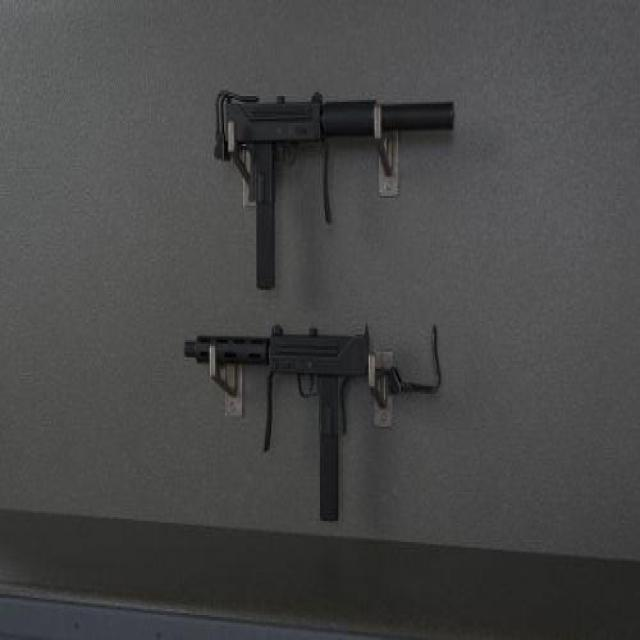weapon: (185, 308, 464, 548), (206, 82, 470, 293)
